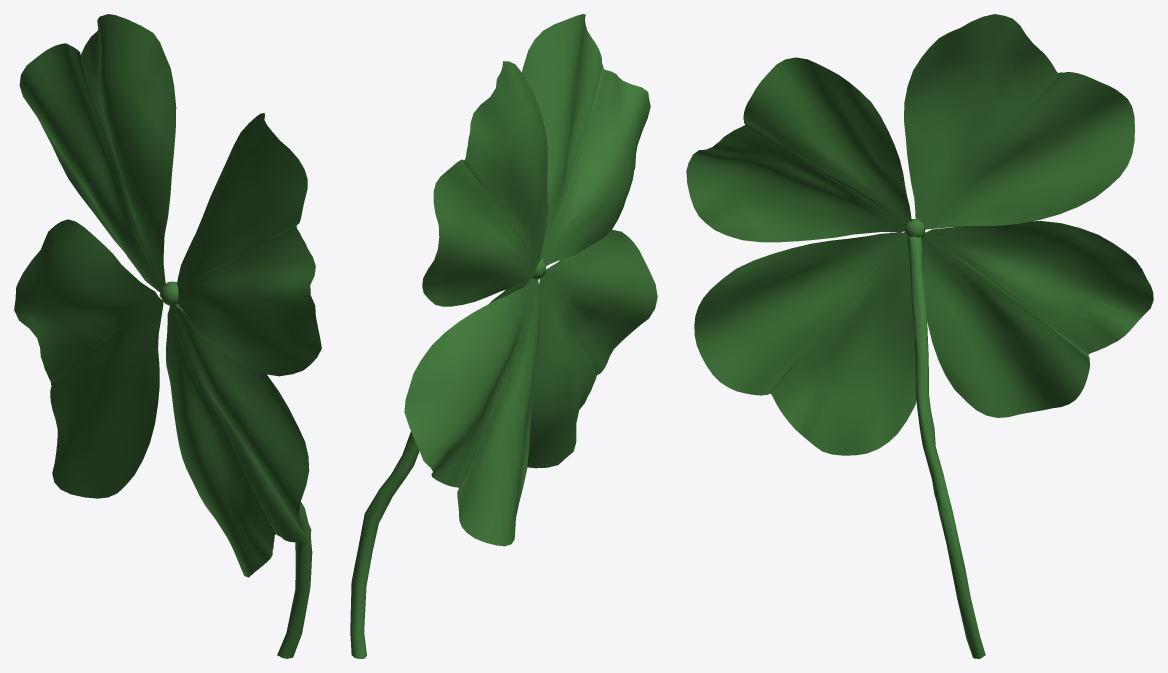
File: clover.fbx
The picture shows the model from 3 angles, left to right: view 1: azimuth 30°, elevation 25°; view 2: azimuth 150°, elevation 25°; view 3: azimuth 270°, elevation 25°; orthographic projection. The views are drawn at different scales.
Visible parts, largest first — view 1: clover; view 2: clover; view 3: clover.
Boxes of the visible parts, <box> form: clover: <box>14,14,321,658</box>; clover: <box>350,14,657,658</box>; clover: <box>686,14,1153,658</box>.
Size of the model in its own units: 27.58 by 84.6 by 62.28.
